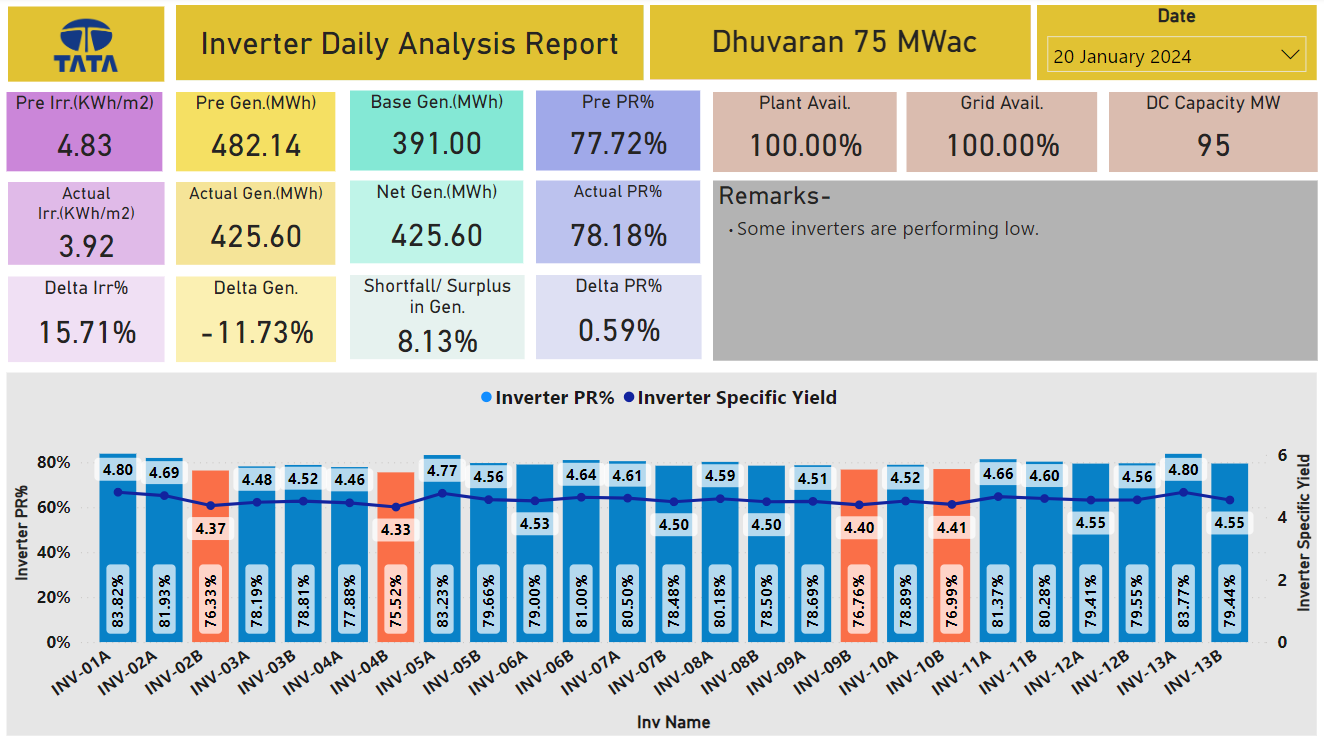

The page's visual inventory and layout, read from the dashboard file:
{"tool":"powerbi","page":{"name":"Page 1","canvas":[1280,720],"ordinal":0},"visuals":[{"type":"slicer","title":"Date","fields":{"Values":["DGR_Sheet.Date"]},"box":[997.8,8.5,267.9,72.3],"z":0},{"type":"card","title":"Pre Irr.(KWh/m2)","fields":{"Values":["Avg(DGR_Sheet.Budget Irradiation (KWh/m2))"]},"box":[11.4,91.3,149.8,76.3],"z":1000},{"type":"card","title":"Delta Gen.","fields":{"Values":["Avg(DGR_Sheet.Delta Gen.)"]},"box":[172.8,268.1,153.1,82.2],"z":2000},{"type":"card","title":"Delta PR%","fields":{"Values":["Avg(DGR_Sheet.Delta PR%%)"]},"box":[517.3,267.9,158.7,80.8],"z":3000},{"type":"card","title":"Grid Avail.","fields":{"Values":["Avg(DGR_Sheet.Grid Availability)"]},"box":[872.9,91.3,182.8,76.5],"z":4000},{"type":"card","title":"DC Capacity MW","fields":{"Values":["Avg(DGR_Sheet.DC Capacity)"]},"box":[1065.7,91.3,199.8,76.5],"z":5000},{"type":"textbox","title":"Remarks-","box":[686.9,177,579.5,172.5],"z":6000},{"type":"card","title":"Actual Irr.(KWh/m2)","fields":{"Values":["Avg(DGR_Sheet.GHI)"]},"box":[11.4,177.7,149.8,79.2],"z":7000},{"type":"textbox","box":[11.5,20.2,116.6,51.8],"z":8000},{"type":"card","title":"Pre Gen.(MWh)","fields":{"Values":["DGR_Sheet.Guranteed Gen. in MWh"]},"box":[172.7,91.3,152.6,76.3],"z":9000},{"type":"card","title":"Pre PR%","fields":{"Values":["Avg(DGR_Sheet.Predicted PR%)"]},"box":[517.3,90.7,157.3,76.5],"z":10000},{"type":"card","title":"Actual Gen.(MWh)","fields":{"Values":["DGR_Sheet.Net Gen. in MWh"]},"box":[172.7,177.7,152.6,79.2],"z":11000},{"type":"card","title":"Actual PR%","fields":{"Values":["Avg(DGR_Sheet.PR% W.R.T GII (KWh/m2))"]},"box":[517.3,177.2,157.3,79.4],"z":12000},{"type":"card","title":"Shortfall/ Surplus in Gen. ","fields":{"Values":["Avg(DGR_Sheet.Delta Gen. wrt Base)"]},"box":[338.7,267.9,167.2,80.8],"z":13000},{"type":"card","title":"Net Gen.(MWh)","fields":{"Values":["DGR_Sheet.Net Gen. in MWh"]},"box":[338.7,177.2,165.8,79.4],"z":14000},{"type":"card","title":"Plant Avail.","fields":{"Values":["Avg(DGR_Sheet.Plant Availability)"]},"box":[687.3,91.3,175.7,76.5],"z":15000},{"type":"card","title":"Delta Irr%","fields":{"Values":["Avg(DGR_Sheet.% Change in Irr.)"]},"box":[11.2,268.5,150.2,82.2],"z":16000},{"type":"card","title":"Base Gen.(MWh)","fields":{"Values":["DGR_Sheet.Base Gen. in MWh"]},"box":[338.7,90.7,165.8,76.5],"z":17000},{"type":"lineClusteredColumnComboChart","title":"Avg of Inverter PR% &  Avg of Inverter Specific Yield by Inverter name","fields":{"Category":["DGR_Sheet.Inv Name"],"Y":["Avg(DGR_Sheet.Inverter PR%)"],"Y2":["Avg(DGR_Sheet.Inverter Specific Yield)"]},"box":[10.6,360.4,1255.3,348.3],"z":18000},{"type":"shape","box":[11.4,10.3,149.8,72],"z":19000},{"type":"image","box":[17,12.8,138.9,68],"z":20000},{"type":"shape","box":[172.9,8.5,447.9,72.3],"z":21000},{"type":"textbox","title":"Inverter Daily Analysis Report","box":[178.6,26.9,436.5,39.7],"z":22000},{"type":"shape","box":[626.9,9.1,364.9,71.2],"z":23000},{"type":"textbox","title":"Dhuvaran 75 MWac","box":[649.4,26.4,326.6,39.6],"z":24000}]}

Visuals, with their boxes in screenshot pixels (x1, y1, x2, y2), scaled from the page's 1280x720 canvas onto the 1324x743 screenshot:
"Date" slicer: locate(1032, 9, 1309, 83)
"Pre Irr.(KWh/m2)" card: locate(12, 94, 167, 173)
"Delta Gen." card: locate(179, 277, 337, 361)
"Delta PR%" card: locate(535, 276, 699, 360)
"Grid Avail." card: locate(903, 94, 1092, 173)
"DC Capacity MW" card: locate(1102, 94, 1309, 173)
"Remarks-" textbox: locate(711, 183, 1310, 361)
"Actual Irr.(KWh/m2)" card: locate(12, 183, 167, 265)
textbox: locate(12, 21, 133, 74)
"Pre Gen.(MWh)" card: locate(179, 94, 336, 173)
"Pre PR%" card: locate(535, 94, 698, 173)
"Actual Gen.(MWh)" card: locate(179, 183, 336, 265)
"Actual PR%" card: locate(535, 183, 698, 265)
"Shortfall/ Surplus in Gen. " card: locate(350, 276, 523, 360)
"Net Gen.(MWh)" card: locate(350, 183, 522, 265)
"Plant Avail." card: locate(711, 94, 893, 173)
"Delta Irr%" card: locate(12, 277, 167, 362)
"Base Gen.(MWh)" card: locate(350, 94, 522, 173)
"Avg of Inverter PR% &  Avg of Inverter Specific Yield by Inverter name" lineClusteredColumnComboChart: locate(11, 372, 1309, 731)
shape: locate(12, 11, 167, 85)
image: locate(18, 13, 161, 83)
shape: locate(179, 9, 642, 83)
"Inverter Daily Analysis Report" textbox: locate(185, 28, 636, 69)
shape: locate(648, 9, 1026, 83)
"Dhuvaran 75 MWac" textbox: locate(672, 27, 1010, 68)
